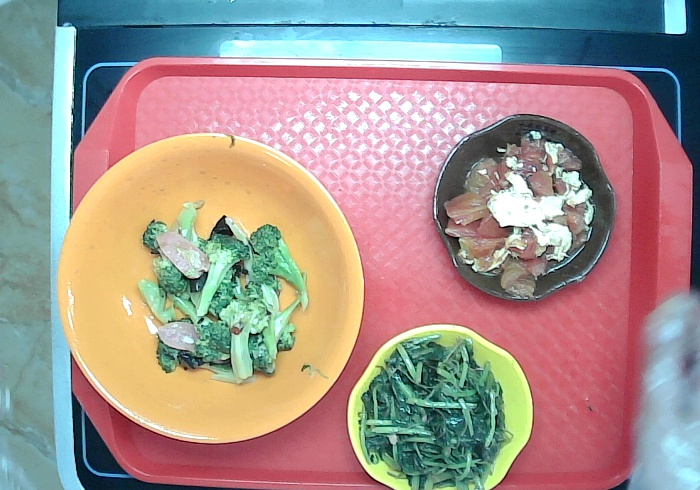YKMZ-Huang_Se_Ao_Bian_Wan: (341, 321, 534, 490)
YKMZ-Ju_Se_Tang_Wan: (54, 130, 369, 441)
YKMZ-Ka_Fei_Ao_Bian_Wan: (429, 109, 613, 296)
